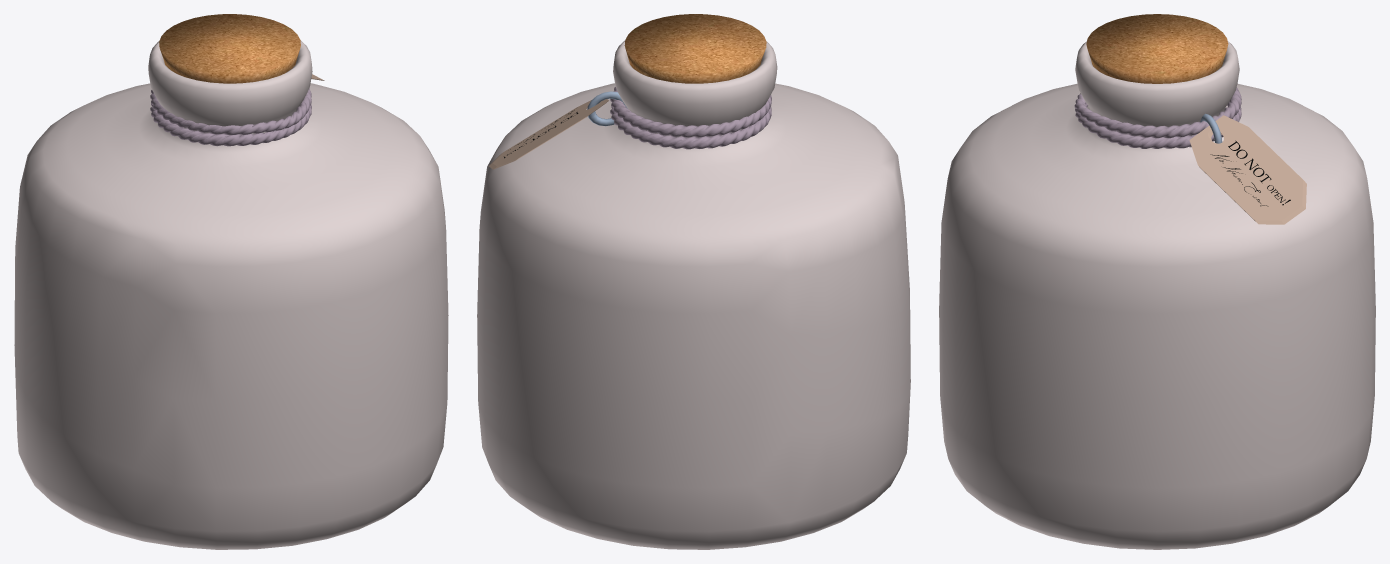
Rendered from bottle_compressed.glb.
The picture shows the model from 3 angles, left to right: view 1: azimuth 30°, elevation 25°; view 2: azimuth 150°, elevation 25°; view 3: azimuth 270°, elevation 25°; orthographic projection.
Visible parts, largest first — view 1: BottleWithAHole.001, Cork, Ring.002; view 2: BottleWithAHole.001, Cork, Ring.002, BottleLabel; view 3: BottleWithAHole.001, Cork, BottleLabel, Ring.002.
Part boxes in pixels (x1,y1,x2,y2): BottleWithAHole.001: (14, 40, 448, 549); Cork: (159, 14, 300, 83); Ring.002: (150, 88, 311, 146); BottleWithAHole.001: (477, 40, 910, 549); Cork: (624, 14, 766, 83); Ring.002: (587, 87, 771, 149); BottleLabel: (489, 99, 608, 169); BottleWithAHole.001: (939, 41, 1375, 549); Cork: (1086, 14, 1228, 83); BottleLabel: (1189, 115, 1306, 224); Ring.002: (1074, 87, 1241, 148).
Size of the model in its own units: 2.38 by 2.62 by 2.39.
Materials: 6 (1 with a texture image).
